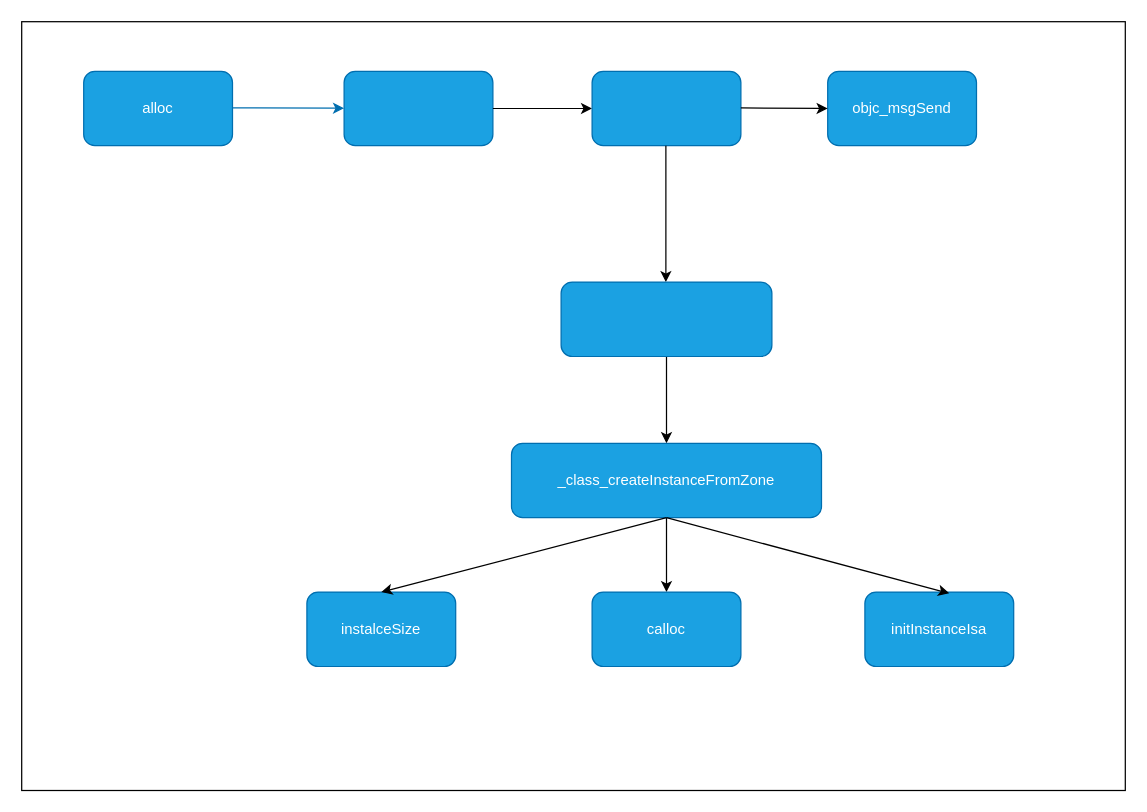
The diagram is 1147 pixels wide and 812 high, and some of its shapes have lost their labels. Each missing label, with the centre of its shape:
_objc_rootAlloc: (418,108)
_objc_rootAllocWithZone: (666,318)
callAlloc: (666,108)
